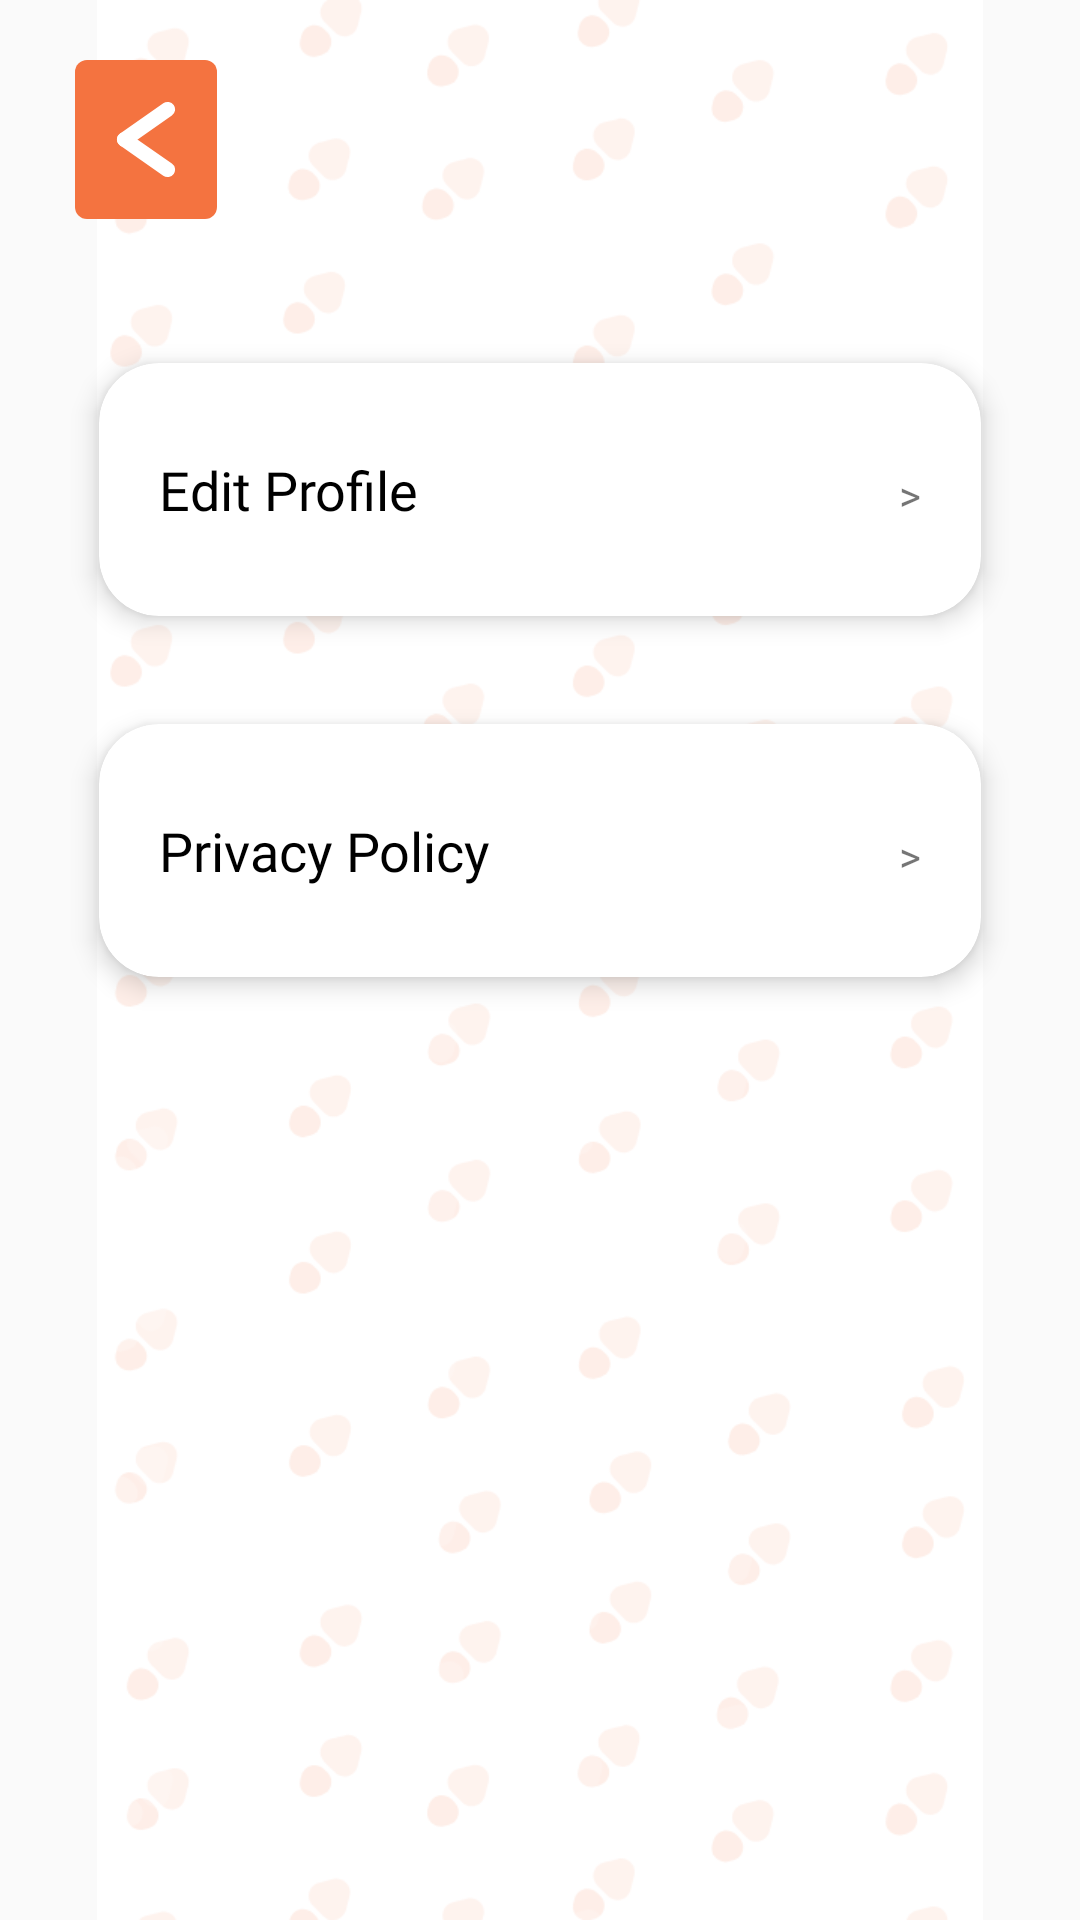

Locate icon controls on the screen. Image size 1080px×1920px, boxes as (x1, y1, x2, y2).
Back: (75, 60, 217, 219)
